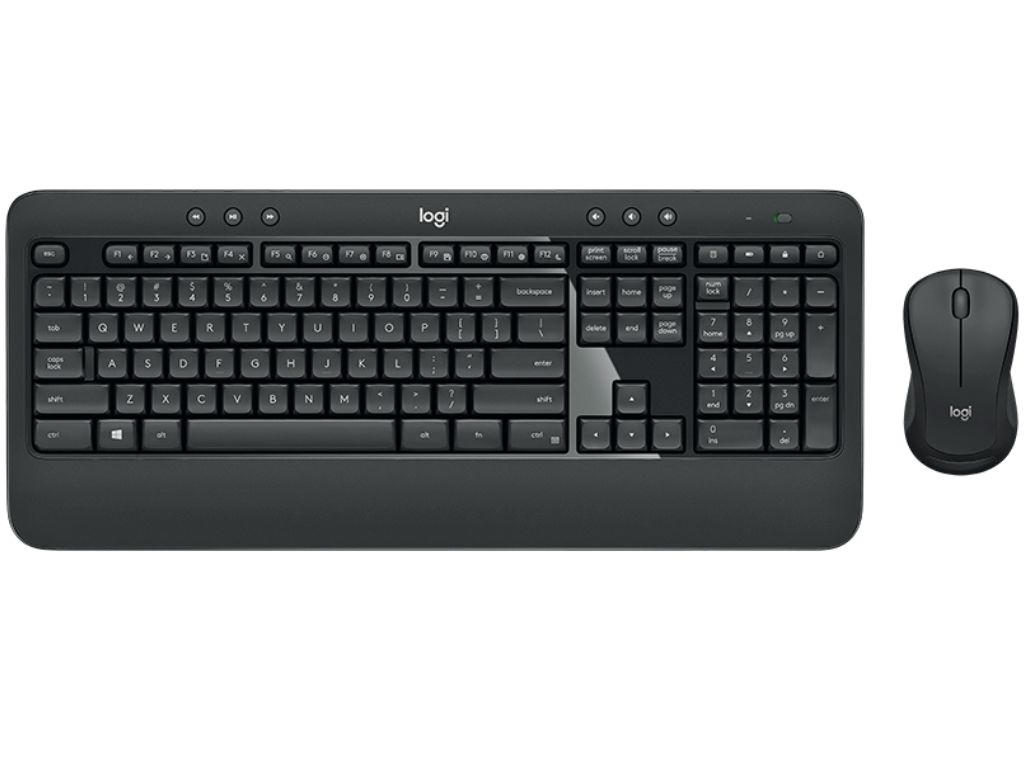keyboard: (2, 183, 870, 556)
mouse: (900, 264, 1021, 479)
